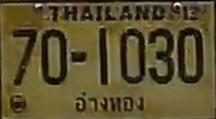0: (41, 28, 67, 84), (177, 26, 202, 82), (119, 28, 144, 82)
1: (98, 27, 107, 84)
3: (148, 26, 173, 82)
7: (11, 28, 36, 84)
ATG: (72, 89, 148, 116)
